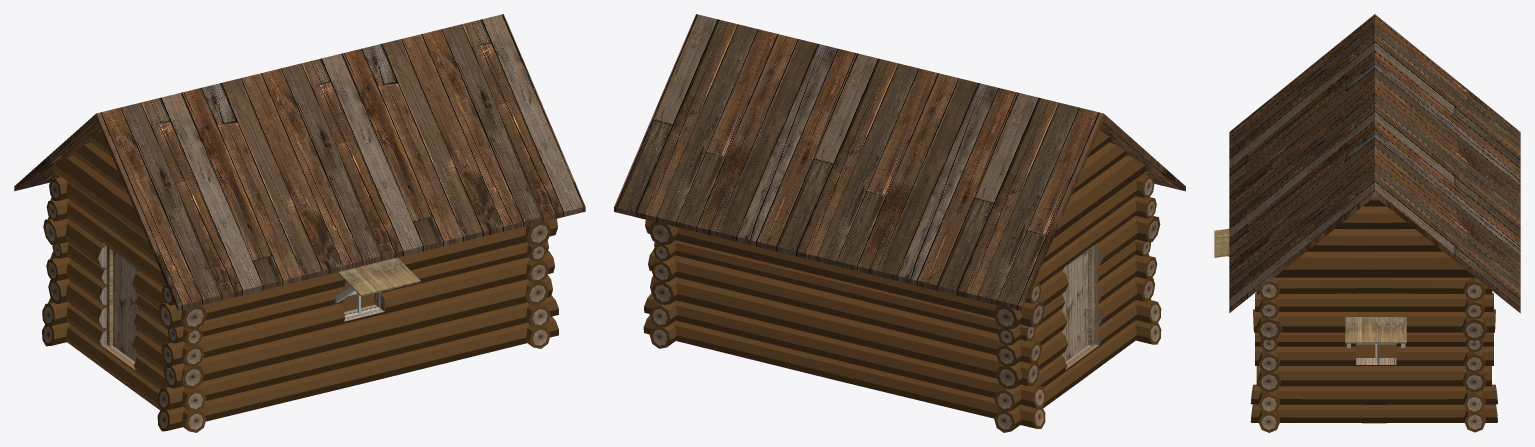
The model's file is Cabin_Hermit_2.fbx.
The picture shows the model from 3 angles, left to right: view 1: azimuth 30°, elevation 25°; view 2: azimuth 150°, elevation 25°; view 3: azimuth 270°, elevation 25°; orthographic projection. The views are drawn at different scales.
Parts seen in each view (by area): view 1: Roof, RightWall, BackWall, TopWall, LeftWall, FrontWall, Door, Flat_1, DoorFrame; view 2: Roof, LeftWall, BackWall, TopWall, RightWall, FrontWall, Door, DoorFrame; view 3: Roof, FrontWall, TopWall, LeftWall, RightWall, Flat_2, Floor, Flat_1.
Part boxes in pixels (bbox=[...]): Roof: bbox=[14, 14, 585, 310]; RightWall: bbox=[157, 218, 558, 431]; BackWall: bbox=[48, 172, 206, 432]; TopWall: bbox=[52, 130, 146, 238]; LeftWall: bbox=[42, 176, 69, 346]; FrontWall: bbox=[525, 221, 551, 348]; Door: bbox=[113, 251, 138, 361]; Flat_1: bbox=[337, 257, 420, 296]; DoorFrame: bbox=[106, 246, 142, 356]; Roof: bbox=[614, 14, 1185, 311]; LeftWall: bbox=[643, 219, 1045, 428]; BackWall: bbox=[993, 172, 1151, 432]; TopWall: bbox=[1053, 130, 1147, 238]; RightWall: bbox=[1134, 174, 1161, 344]; FrontWall: bbox=[648, 221, 677, 348]; Door: bbox=[1063, 250, 1088, 361]; DoorFrame: bbox=[1059, 245, 1095, 356]; Roof: bbox=[1229, 14, 1520, 313]; FrontWall: bbox=[1250, 277, 1497, 423]; TopWall: bbox=[1274, 197, 1475, 277]; LeftWall: bbox=[1462, 277, 1487, 432]; RightWall: bbox=[1256, 278, 1281, 432]; Flat_2: bbox=[1345, 317, 1406, 343]; Floor: bbox=[1356, 344, 1396, 357]; Flat_1: bbox=[1214, 228, 1229, 257].
Bounding box in the file's own units: 14.33 × 8.86 × 9.99.
